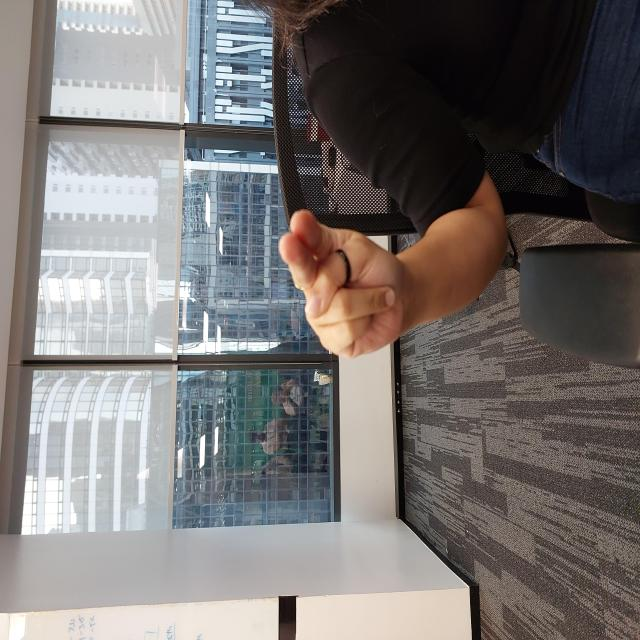N: (279, 277, 433, 411)
